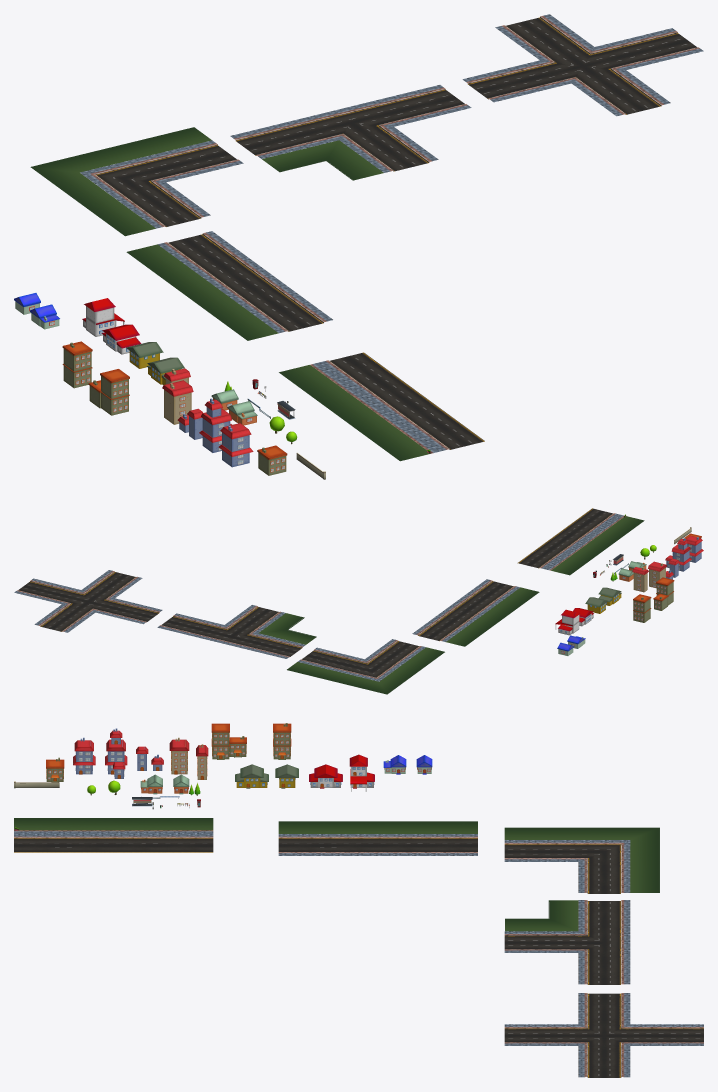
The model's file is Assets_01.fbx.
3 views of the same model, one above another, from view 1: azimuth 30°, elevation 25°; view 2: azimuth 150°, elevation 25°; view 3: azimuth 270°, elevation 25° (orthographic). The views are drawn at different scales.
Parts seen in each view (by area): view 1: Road_X, Road_T, Road_L, Road_one, Road_1, Grass2, Road_side1, Road_side, Grass1, House_13, House_14, House_8 (+5 smaller); view 2: Road_X, Road_T, Road_one, Road_L, Road_1, Grass2, Road_side1, Road_side, Grass1, House_13, House_9, House_5 (+4 smaller); view 3: Road_X, Road_T, Road_1, Road_L, Road_one, Grass2, Road_side1, Road_side, Grass1, House_13, House_9, House_8 (+5 smaller).
Part boxes in pixels (x1,y1,x2,y2): Road_X: [462, 14, 703, 116]; Road_T: [230, 85, 471, 172]; Road_L: [80, 140, 243, 228]; Road_one: [158, 231, 332, 333]; Road_1: [310, 352, 484, 453]; Grass2: [30, 127, 211, 236]; Road_side1: [126, 244, 278, 340]; Road_side: [279, 365, 430, 461]; Grass1: [262, 140, 383, 180]; House_13: [88, 369, 129, 415]; House_14: [62, 341, 92, 388]; House_8: [218, 423, 253, 467]; Road_X: [14, 570, 162, 632]; Road_T: [157, 605, 305, 658]; Road_one: [412, 579, 519, 641]; Road_L: [297, 639, 425, 681]; Road_1: [517, 508, 623, 570]; Grass2: [287, 647, 444, 694]; Road_side1: [446, 587, 539, 646]; Road_side: [551, 516, 644, 575]; Grass1: [258, 613, 316, 644]; House_13: [653, 577, 674, 610]; House_9: [665, 538, 691, 571]; House_5: [555, 609, 580, 635]; Road_X: [504, 993, 703, 1077]; Road_T: [504, 900, 630, 984]; Road_1: [14, 830, 213, 852]; Road_L: [504, 840, 630, 893]; Road_one: [278, 834, 477, 855]; Grass2: [504, 827, 659, 892]; Road_side1: [278, 821, 477, 833]; Road_side: [14, 818, 213, 830]; Grass1: [505, 900, 578, 931]; House_13: [211, 723, 246, 759]; House_9: [105, 728, 127, 778]; House_8: [73, 737, 95, 774].
Bounding box in the file's own units: 327 × 19.21 × 292.
